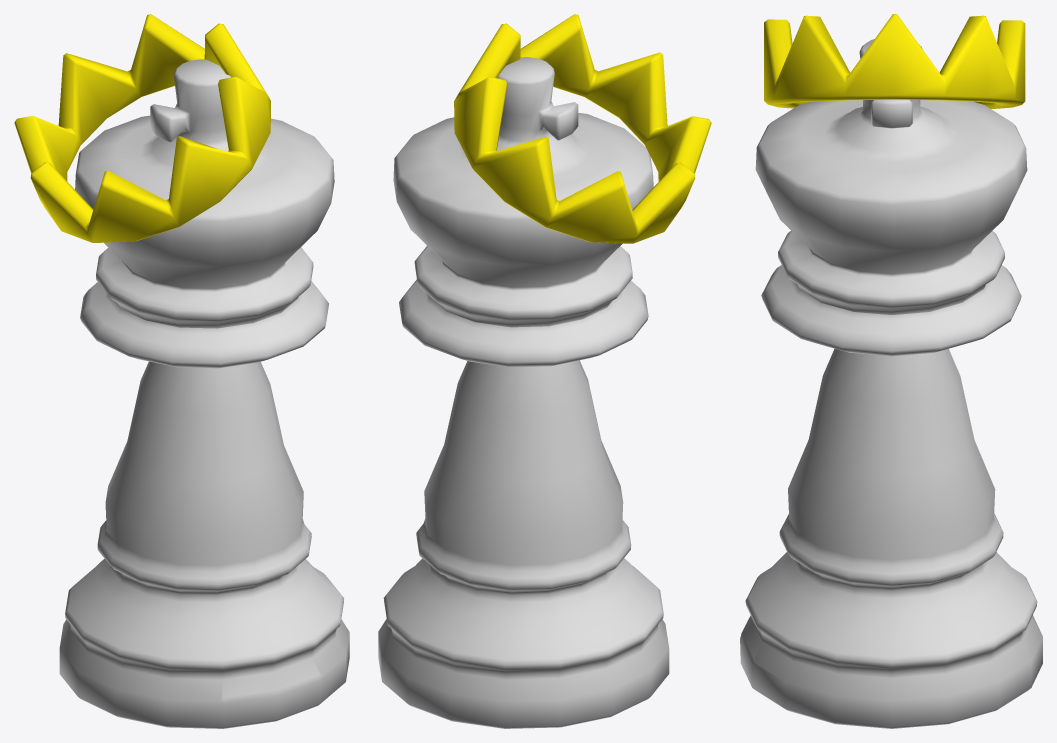
File: Boss.glb
The picture shows the model from 3 angles, left to right: view 1: azimuth 30°, elevation 25°; view 2: azimuth 150°, elevation 25°; view 3: azimuth 270°, elevation 25°; orthographic projection. The views are drawn at different scales.
Parts seen in each view (by area): view 1: Boss; view 2: Boss; view 3: Boss.
Part boxes in pixels (bbox=[...]): Boss: bbox=[14, 14, 349, 728]; Boss: bbox=[378, 14, 711, 728]; Boss: bbox=[740, 14, 1042, 728].
Bounding box in the file's own units: 1.34 × 2.74 × 1.14.
